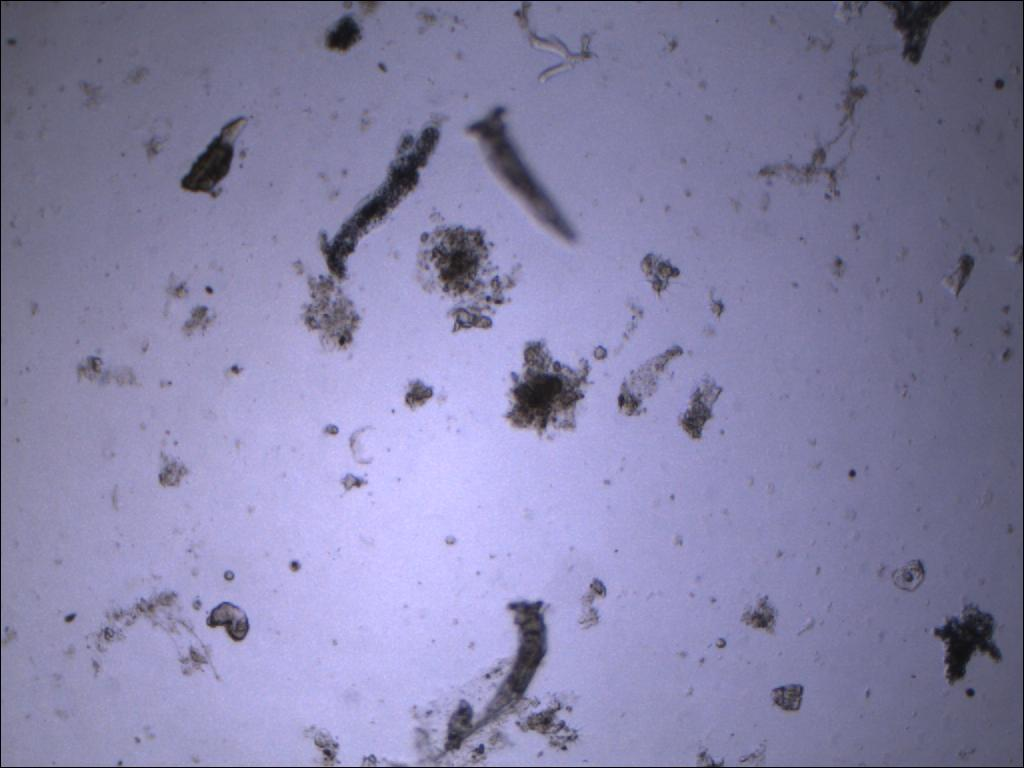amoeba: (314, 115, 443, 283)
